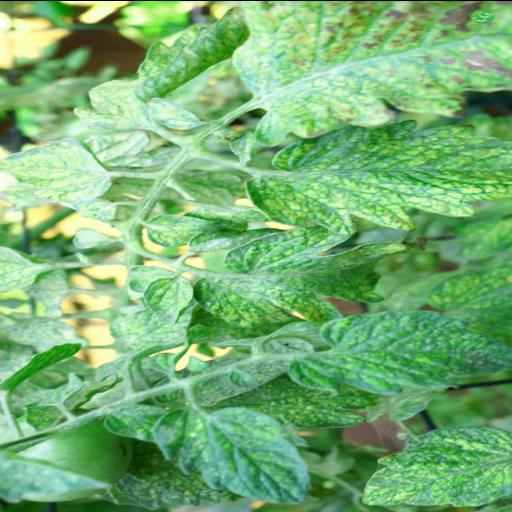Spider Mites: (230, 0, 512, 147), (248, 117, 512, 234), (189, 226, 415, 328), (68, 4, 250, 130), (282, 308, 512, 396), (154, 404, 310, 506), (350, 422, 512, 509), (0, 136, 116, 202), (142, 212, 228, 246), (139, 275, 195, 325), (144, 94, 208, 130)
